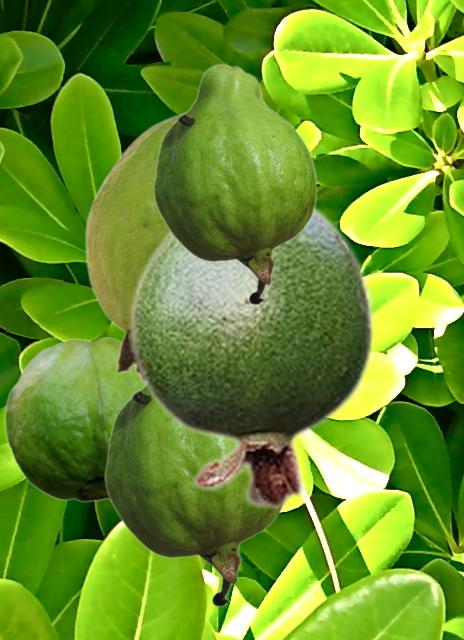guava: (128, 204, 376, 510), (152, 63, 316, 304), (103, 386, 282, 606), (84, 111, 185, 377), (4, 336, 141, 503)
